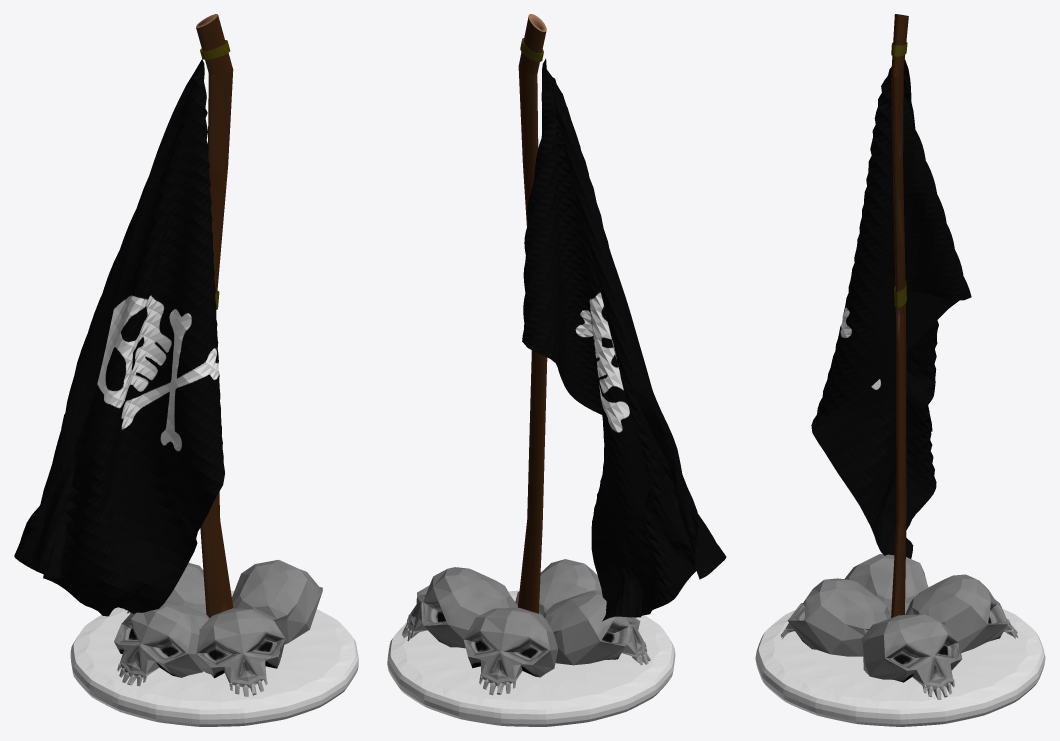
The model's file is flag 1.fbx.
3 views of the same model, side by side, from view 1: azimuth 30°, elevation 25°; view 2: azimuth 150°, elevation 25°; view 3: azimuth 270°, elevation 25° (orthographic).
Visible parts, largest first — view 1: FlagPole1; view 2: FlagPole1; view 3: FlagPole1.
Part boxes in pixels (x1=…): FlagPole1: x1=14, y1=14, x2=358, y2=726; FlagPole1: x1=387, y1=14, x2=726, y2=726; FlagPole1: x1=755, y1=14, x2=1045, y2=726.
Bounding box in the file's own units: 45.76 × 91.92 × 36.79.
4 materials, 2 textured.
